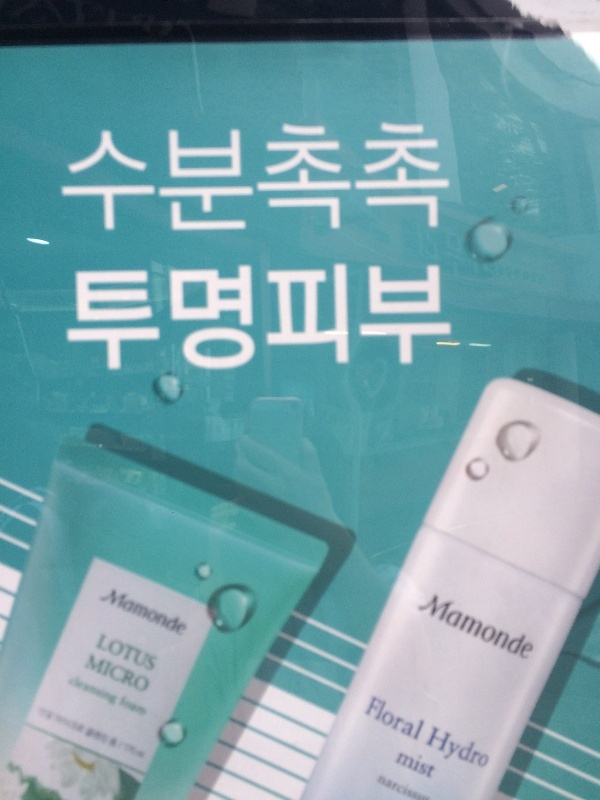text: (65, 117, 80, 239), (81, 117, 96, 239), (97, 117, 112, 239), (113, 117, 128, 239), (129, 117, 144, 239), (145, 117, 160, 239), (161, 117, 176, 239), (177, 117, 192, 239), (193, 117, 208, 239), (209, 117, 224, 239), (225, 117, 240, 239), (241, 117, 256, 239), (257, 117, 272, 239), (273, 117, 288, 239), (289, 117, 304, 239), (305, 117, 320, 239), (321, 117, 336, 239), (337, 117, 352, 239), (353, 117, 368, 239), (369, 117, 384, 239), (385, 117, 400, 239), (401, 117, 416, 239), (417, 117, 432, 239), (433, 117, 448, 239), (65, 260, 80, 375), (81, 260, 96, 375), (97, 260, 112, 375), (113, 260, 128, 375), (129, 260, 144, 375), (145, 260, 160, 375), (161, 260, 176, 375), (177, 260, 192, 375), (193, 260, 208, 375), (209, 260, 224, 375), (225, 260, 240, 375), (241, 260, 256, 375), (257, 260, 272, 375), (273, 260, 288, 375), (289, 260, 304, 375), (305, 260, 320, 375), (321, 260, 336, 375), (337, 260, 352, 375), (353, 260, 368, 375), (369, 260, 384, 375), (385, 260, 400, 375), (401, 260, 416, 375), (417, 260, 432, 375), (433, 260, 448, 375), (449, 587, 464, 667), (465, 587, 480, 667), (481, 587, 496, 667), (497, 587, 512, 667), (513, 587, 528, 667), (435, 587, 448, 667), (449, 260, 458, 375), (113, 584, 128, 643), (129, 584, 144, 643), (145, 584, 160, 643), (161, 584, 176, 643), (49, 704, 64, 763), (65, 704, 80, 763), (81, 704, 96, 763), (97, 704, 112, 763), (113, 704, 128, 763), (129, 704, 144, 763), (449, 722, 464, 780), (465, 722, 480, 780), (481, 722, 496, 780), (385, 691, 400, 747), (401, 691, 416, 747), (434, 722, 448, 780), (113, 627, 128, 679), (129, 627, 144, 679), (97, 651, 112, 700), (113, 651, 128, 700), (129, 651, 144, 700), (81, 671, 96, 720), (97, 671, 112, 720), (113, 671, 128, 720), (129, 671, 144, 720), (145, 627, 159, 679), (177, 584, 189, 643), (372, 691, 384, 747), (417, 691, 429, 747), (529, 587, 537, 667), (401, 745, 416, 785), (417, 745, 432, 785), (101, 627, 112, 679), (449, 117, 453, 239), (417, 769, 433, 799), (40, 704, 48, 763), (385, 769, 400, 799), (401, 769, 416, 799), (61, 117, 64, 239), (145, 651, 152, 700), (73, 671, 80, 720), (145, 671, 152, 720), (90, 651, 96, 700), (145, 704, 148, 763), (433, 745, 437, 785), (381, 769, 384, 799), (497, 722, 498, 780), (399, 745, 400, 785)
